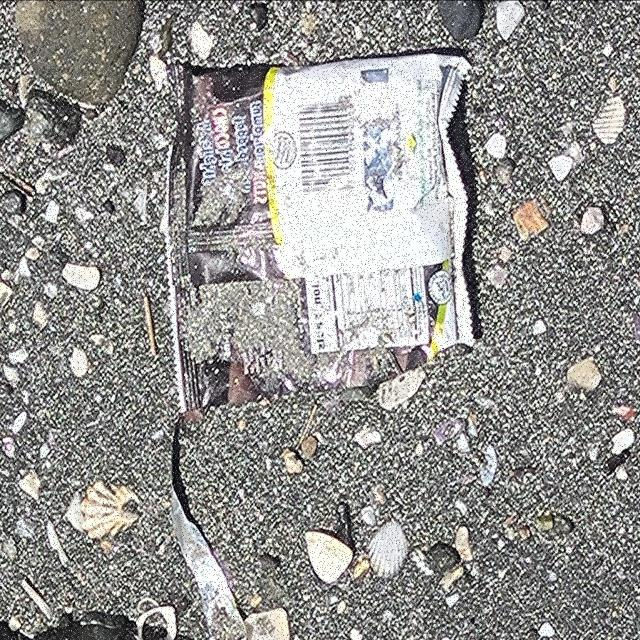plastic_waste: (167, 54, 475, 416)
